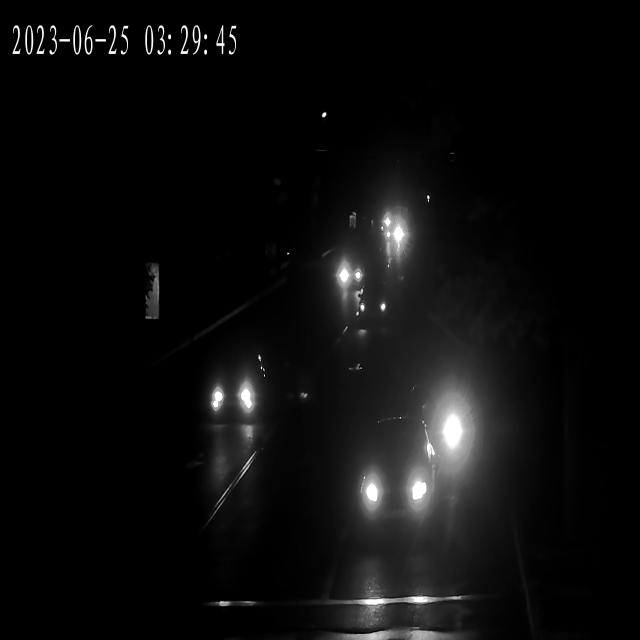Car: (383, 380, 472, 501), (346, 428, 438, 534), (200, 348, 262, 425), (328, 252, 369, 295), (352, 286, 396, 326), (384, 225, 409, 252), (378, 204, 398, 230)
